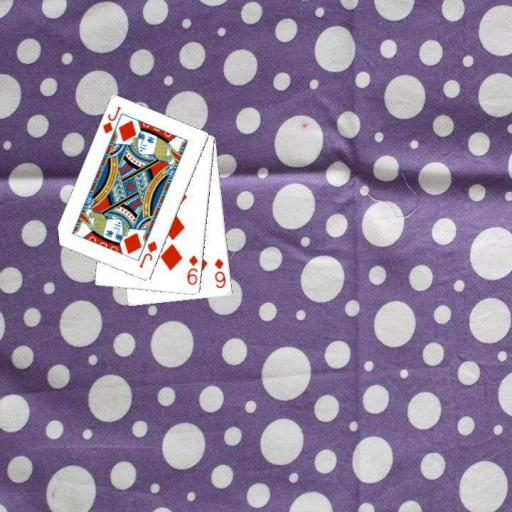card-corner: (136, 238, 159, 270), (100, 103, 123, 135), (211, 255, 228, 290), (184, 252, 200, 286)
